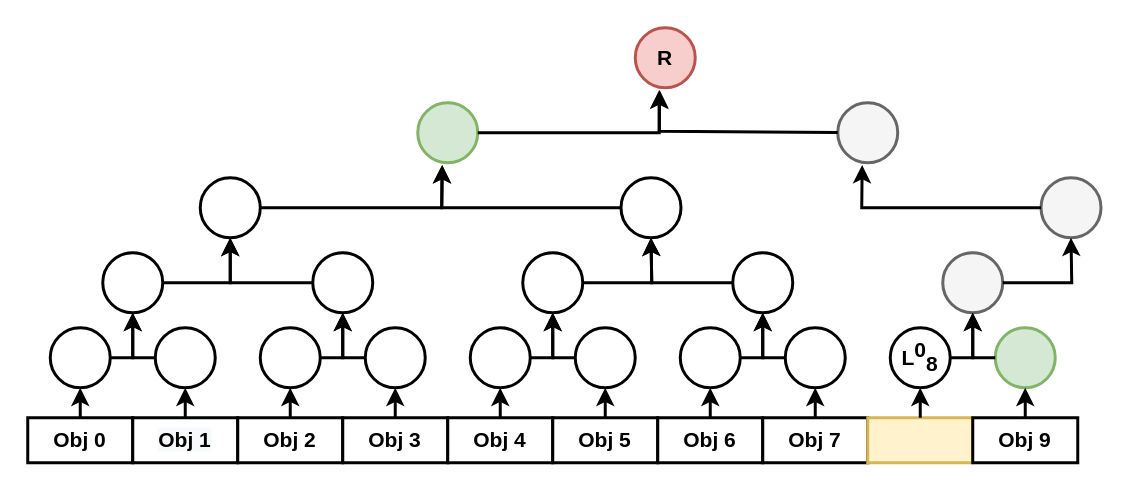
Some shapes in this 1128 by 489 pixel diagram are drawn without their labels. Here are the shapes that lost their labels. From the top down, the centre of each, then its label:
At point 447,132: "L 3 0".
At point 1024,357: "L 0 9".
At point 920,440: "Obj 8".
